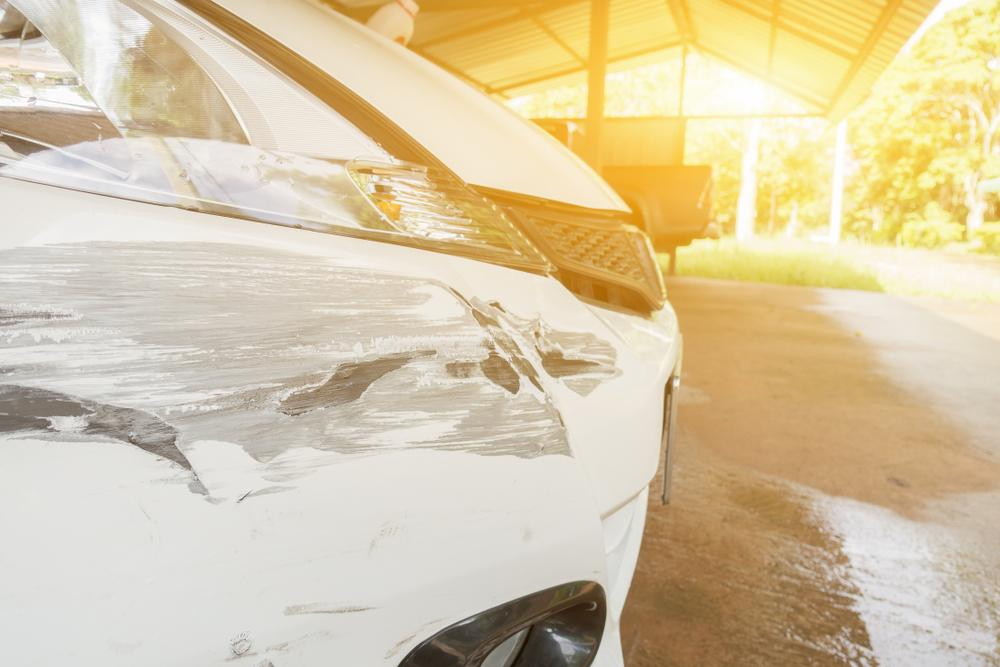scratch: (0, 237, 633, 506), (205, 598, 382, 667)
